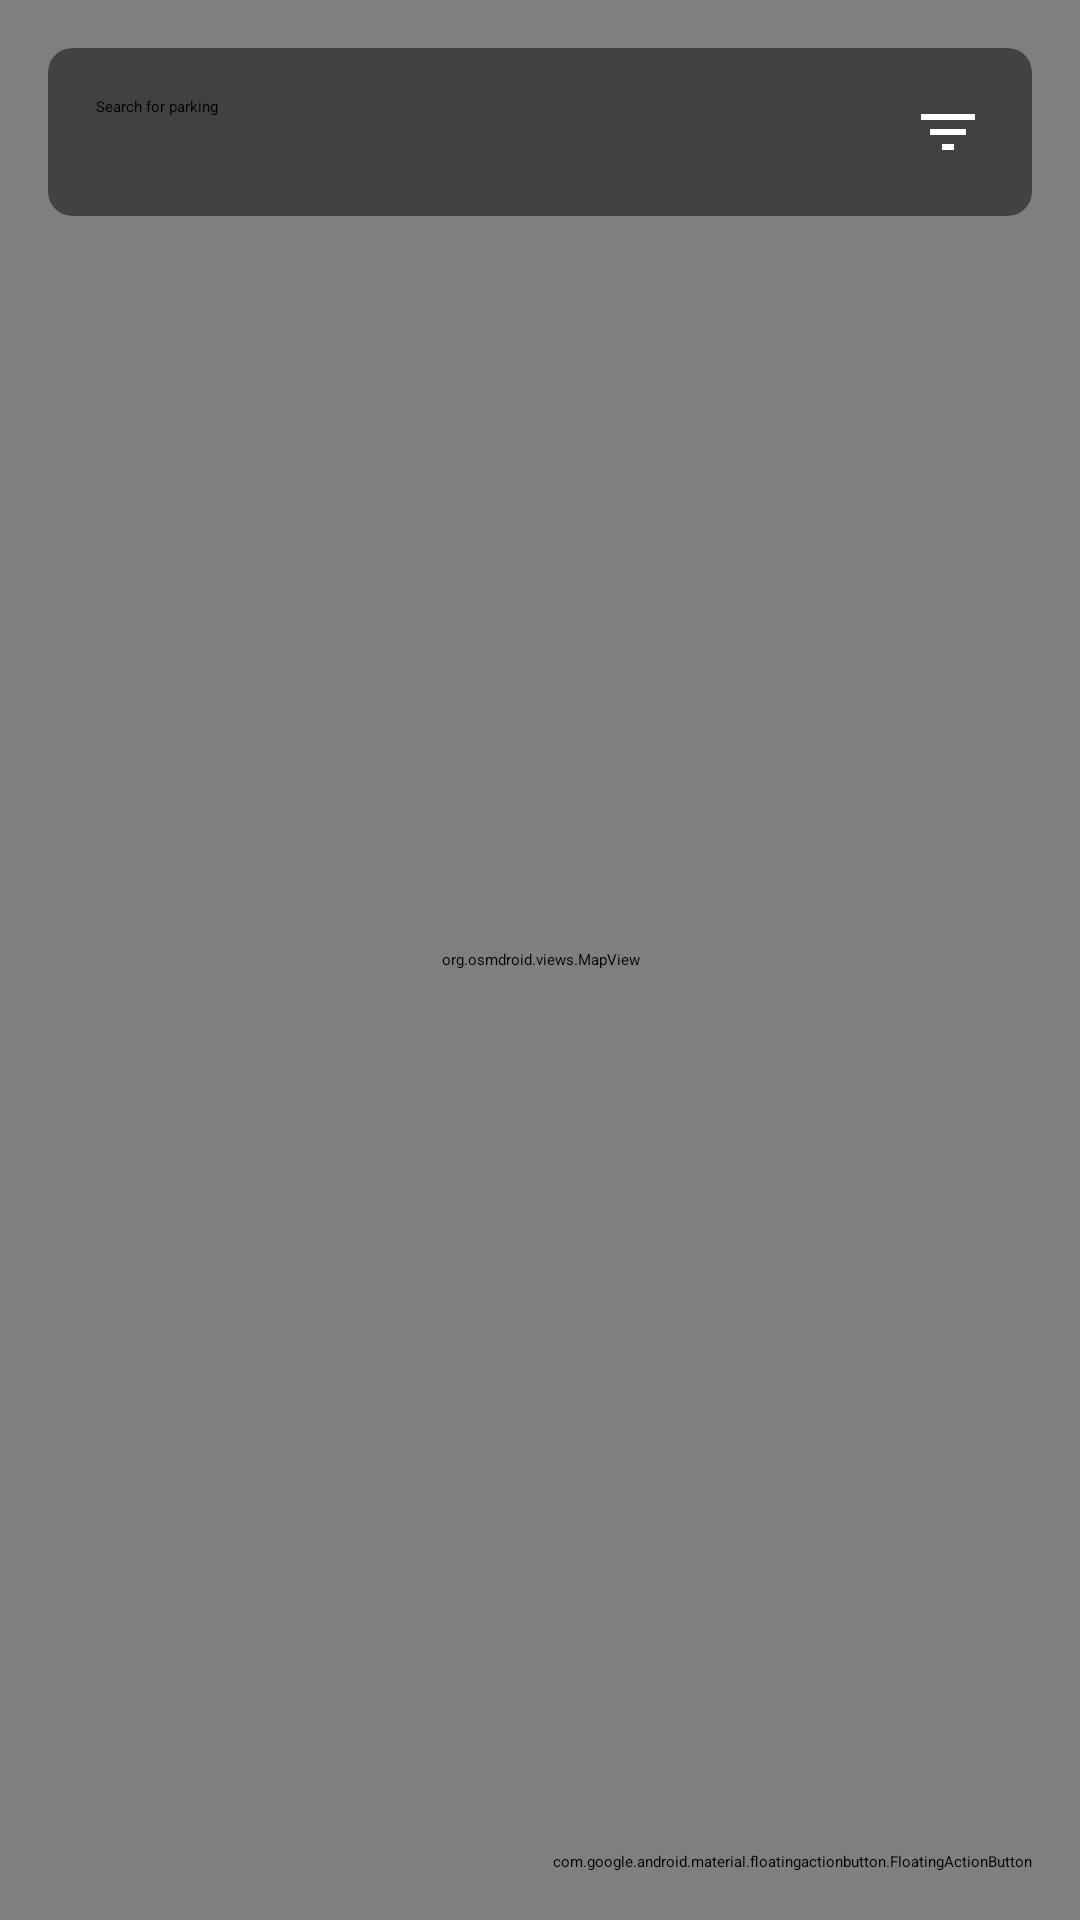

Screen size 1080x1920. Icon name, then its box in pixels as (x1, y1, x2, y2):
Filter: (921, 114, 975, 150)
